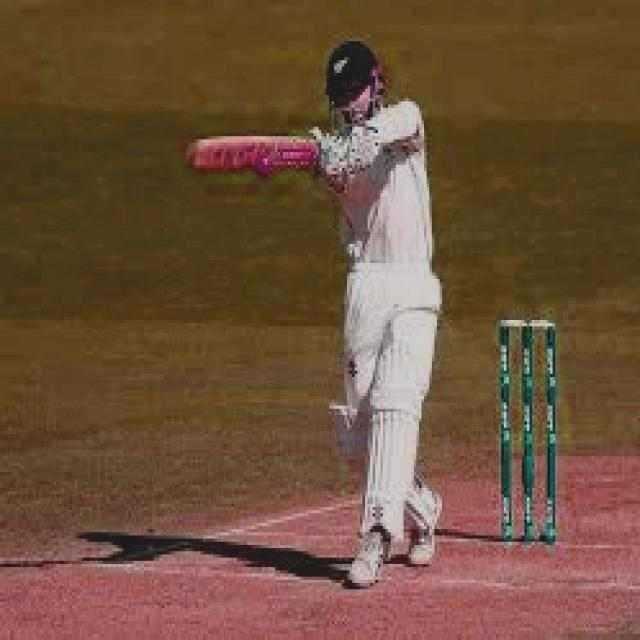toe: (186, 133, 216, 177)
